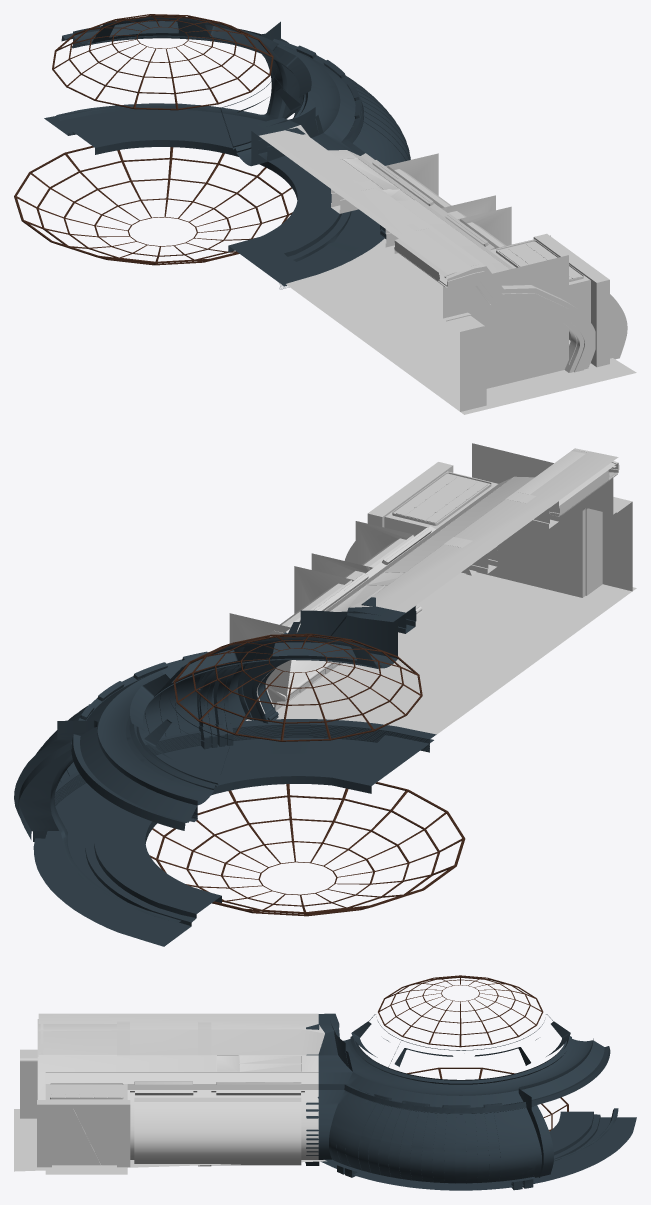
The model's file is bridge_Final.fbx.
3 views of the same model, one above another, from view 1: azimuth 30°, elevation 25°; view 2: azimuth 150°, elevation 25°; view 3: azimuth 270°, elevation 25° (orthographic). The views are drawn at different scales.
Parts seen in each view (by area): view 1: Cylinder.000, Cylinder.002, Sphere; view 2: Cylinder.000, Cylinder.002, Sphere; view 3: Cylinder.000, Cylinder.002, Sphere.
Part boxes in pixels (<box>): Cylinder.000: <box>259,125,636,414</box>; Cylinder.002: <box>44,16,410,289</box>; Sphere: <box>14,14,292,265</box>; Cylinder.000: <box>229,443,636,734</box>; Cylinder.002: <box>14,597,436,946</box>; Sphere: <box>149,633,465,916</box>; Cylinder.000: <box>14,1013,326,1174</box>; Cylinder.002: <box>305,1013,636,1190</box>; Sphere: <box>378,975,568,1131</box>.
Bounding box in the file's own units: 1093 × 592 × 2324.
